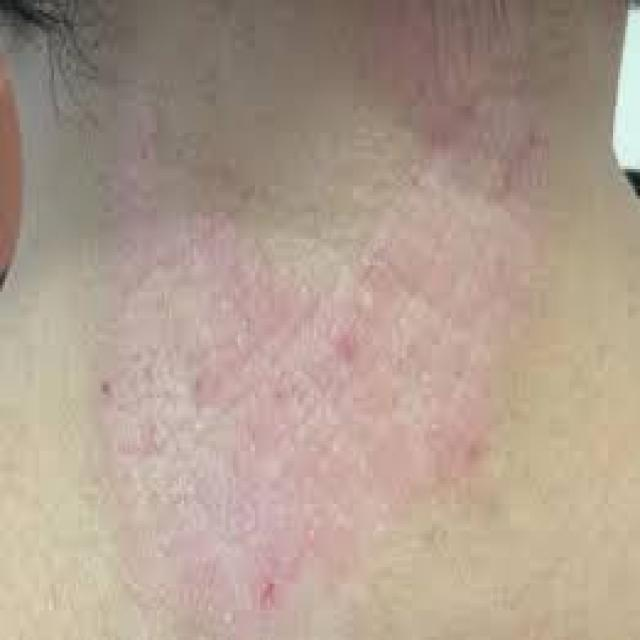Eczema: (93, 84, 516, 588)
